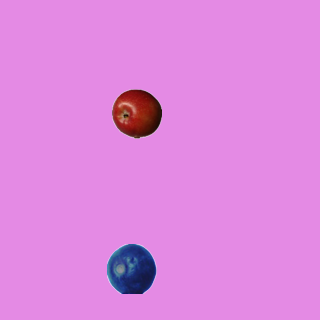Apple Braeburn: (111, 88, 161, 138)
Huckleberry: (106, 243, 156, 293)
